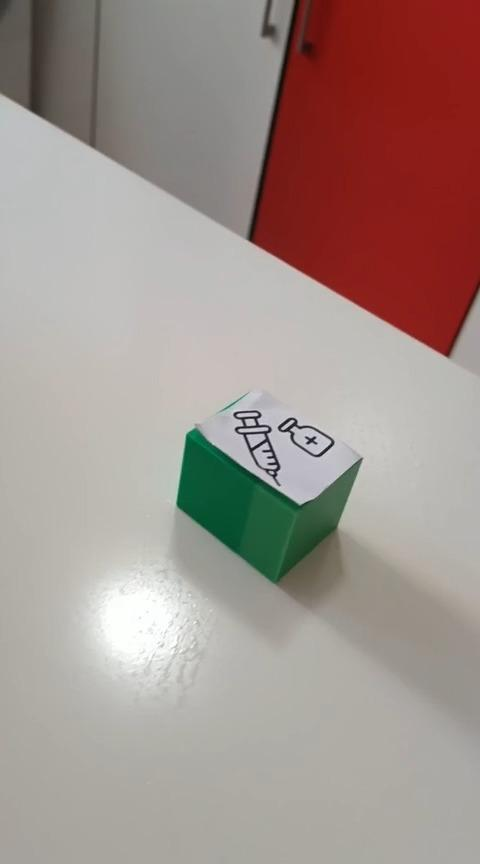antiseptic cream: (174, 386, 363, 583)
